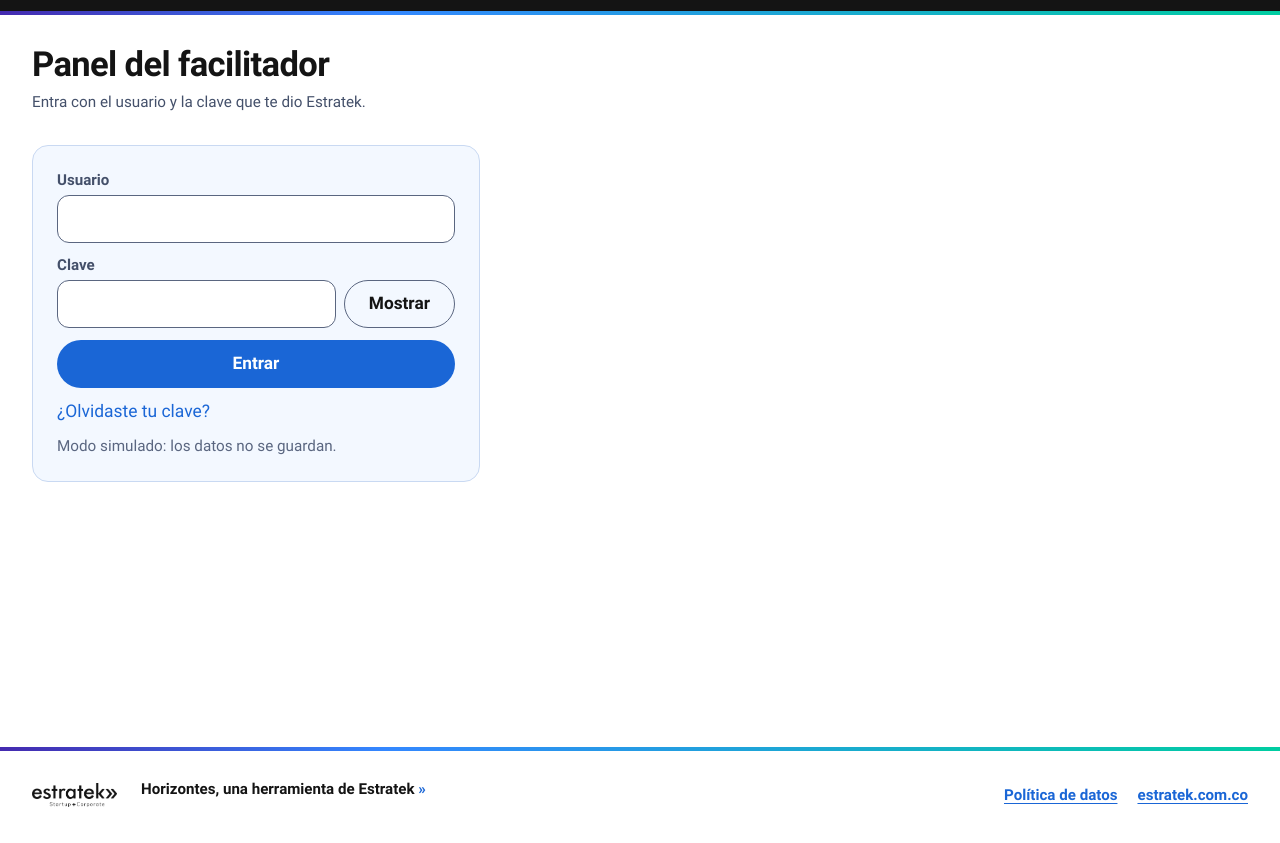
Scenario: Exportar: selector de sala › con una sola sala el selector se ve, con su etiqueta, pero deshabilitado
In the field labelled "Usuario": [256, 219] box [57,195,455,243], type "paola"
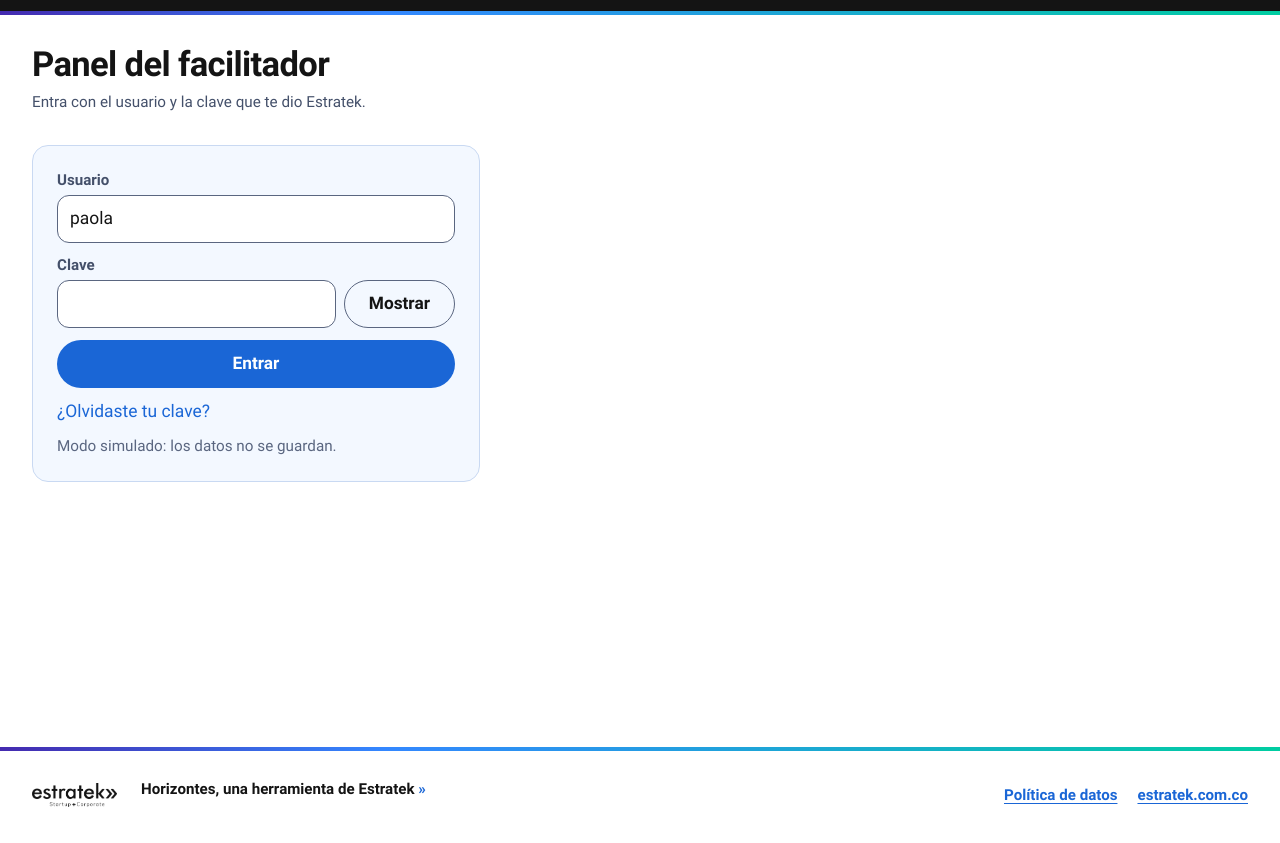
In the password field labelled "Clave": [196, 304] box [57,280,336,328], type "demo1234"
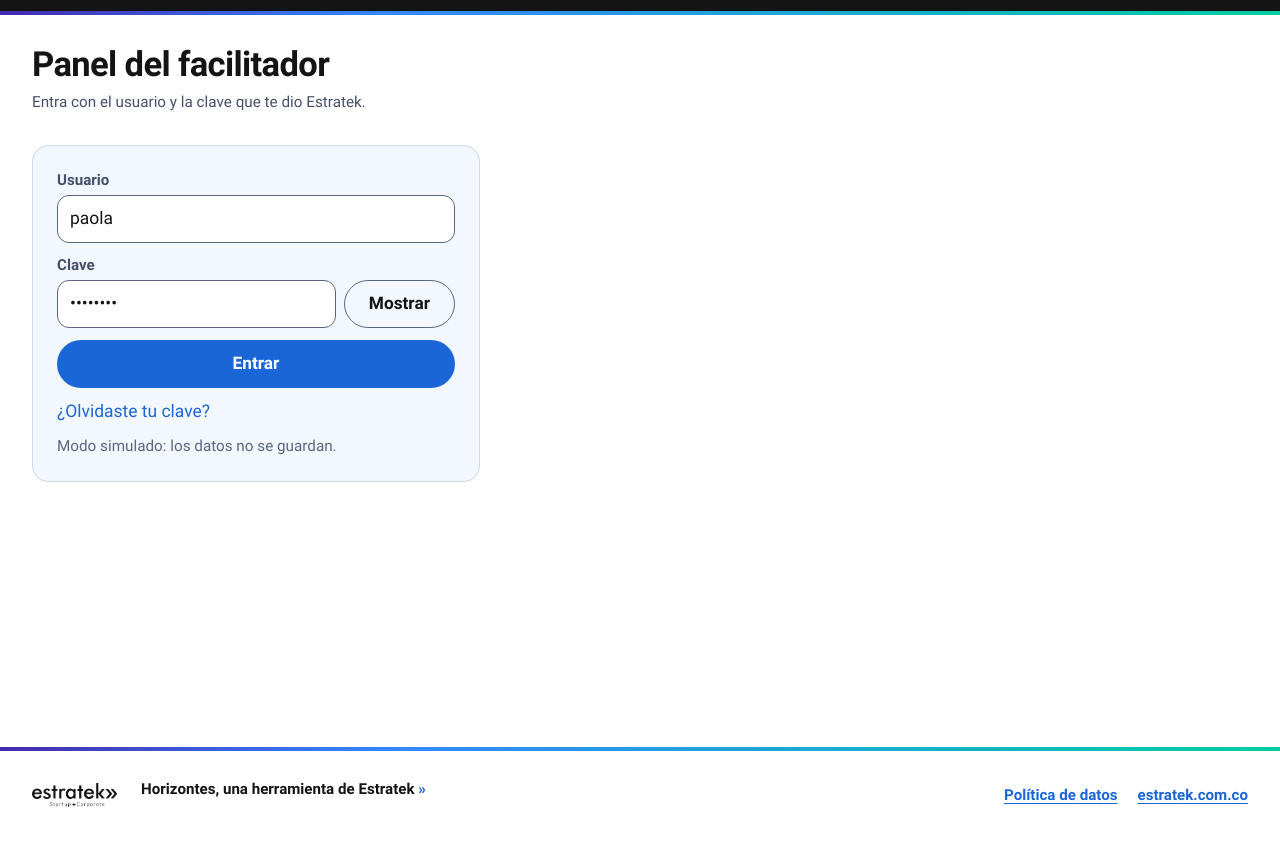
Click the button "Entrar": [256, 364] box [57,340,455,388]
(page scrolled)
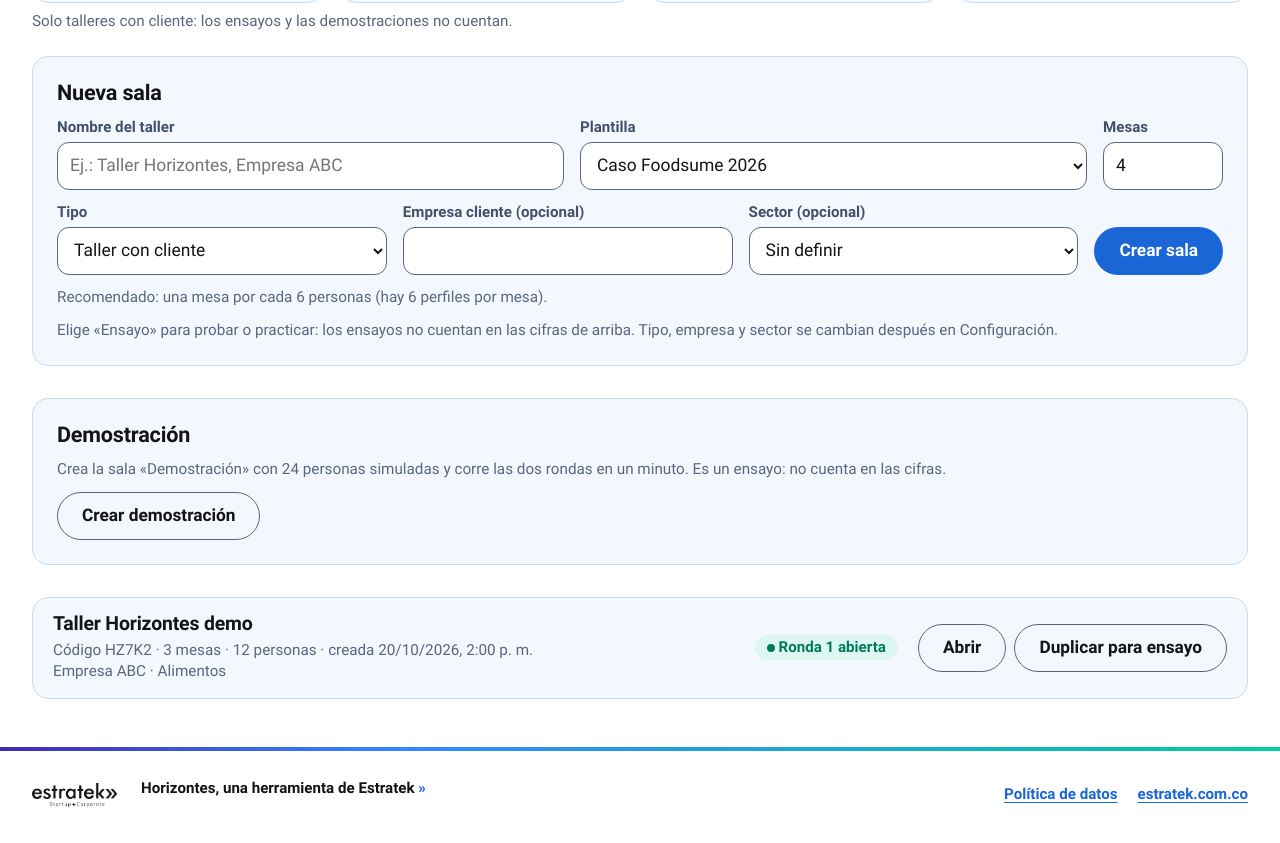
Click the link "Abrir": [962, 648] box [918,624,1006,672]
(page scrolled)
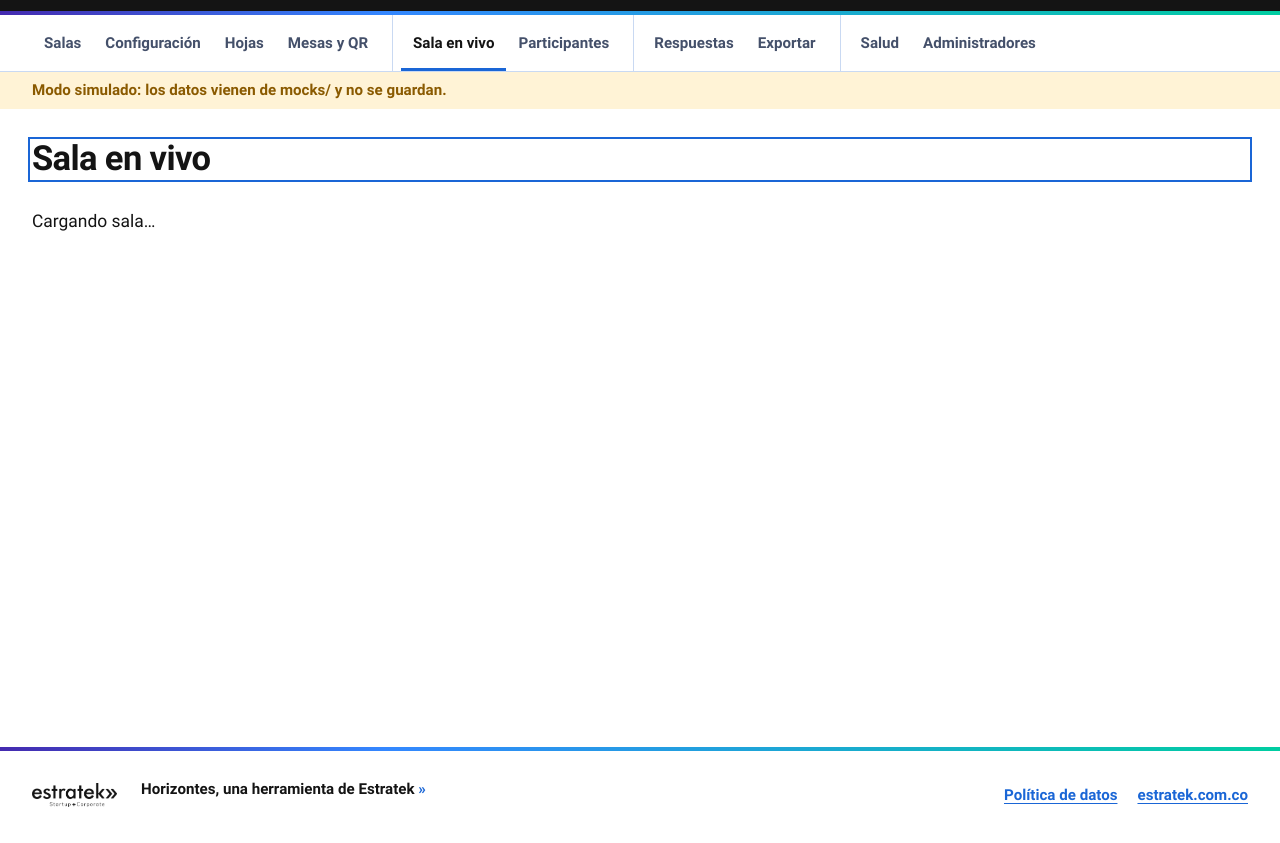
expect the heading "Sala en vivo" is shown: met, box [32,139,210,178]
Click the link "Exportar": [787, 43] box [746,15,828,71]
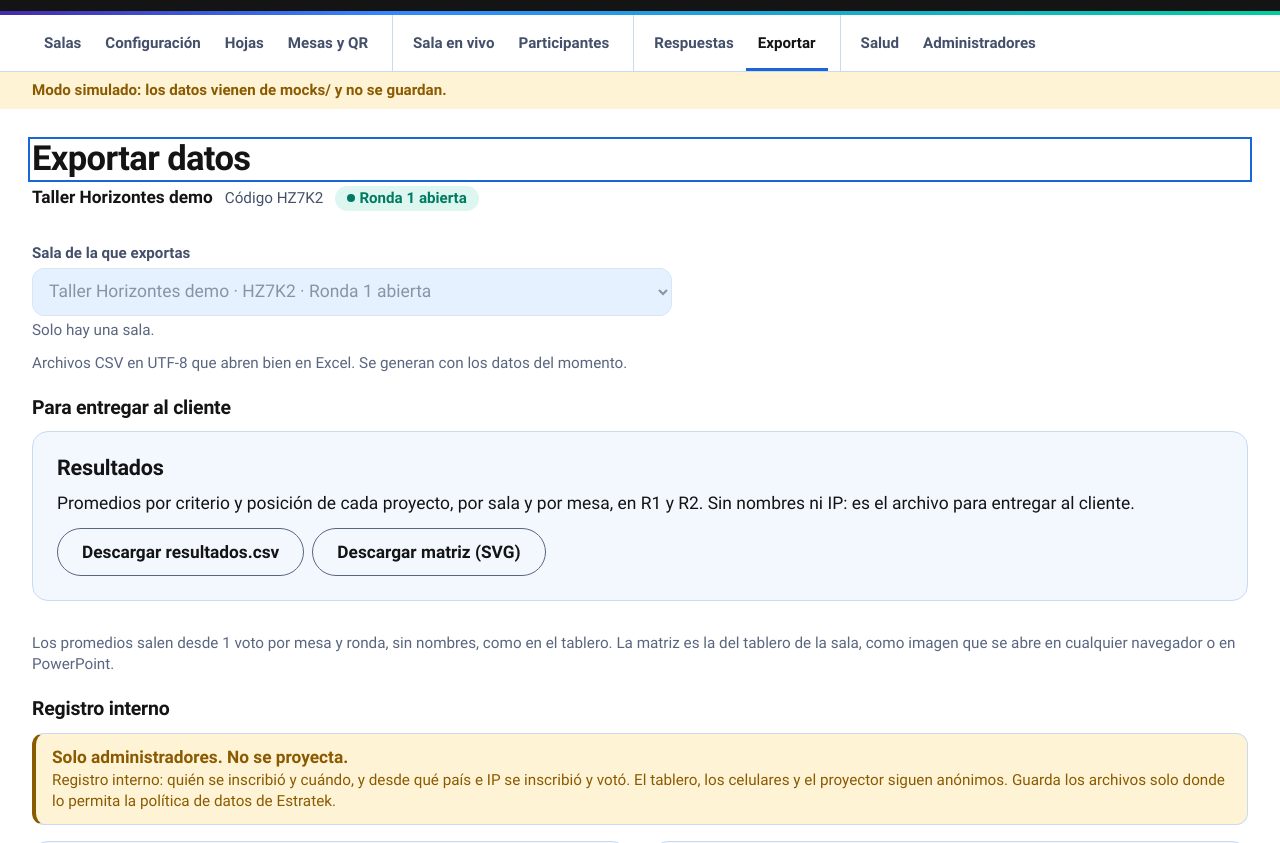
expect the dropdown labelled "Sala de la que exportas" is disabled: met, box [32,268,672,316]
expect the text "Solo hay una sala." is shown: met, box [32,321,155,339]
expect the text "Los promedios salen desde 1 voto por mesa y ronda, sin nombres, como en el tablero." is shown: met, box [32,634,1235,673]
